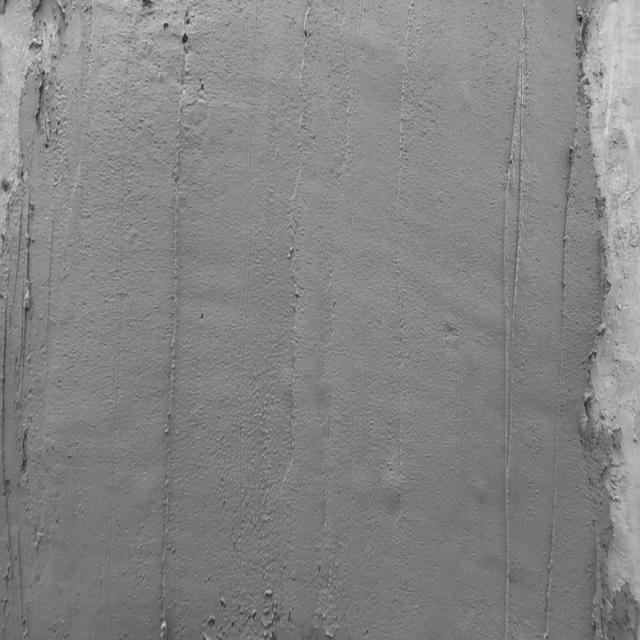trowels marks: (496, 9, 530, 634), (156, 56, 190, 624), (548, 134, 574, 640), (286, 239, 301, 473)
